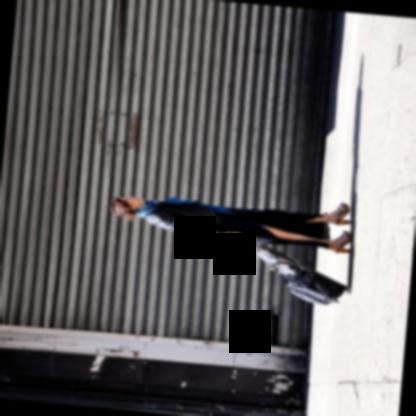backpack: (239, 237, 301, 275)
handbag: (241, 237, 301, 275)
suitcase: (285, 268, 353, 304)
